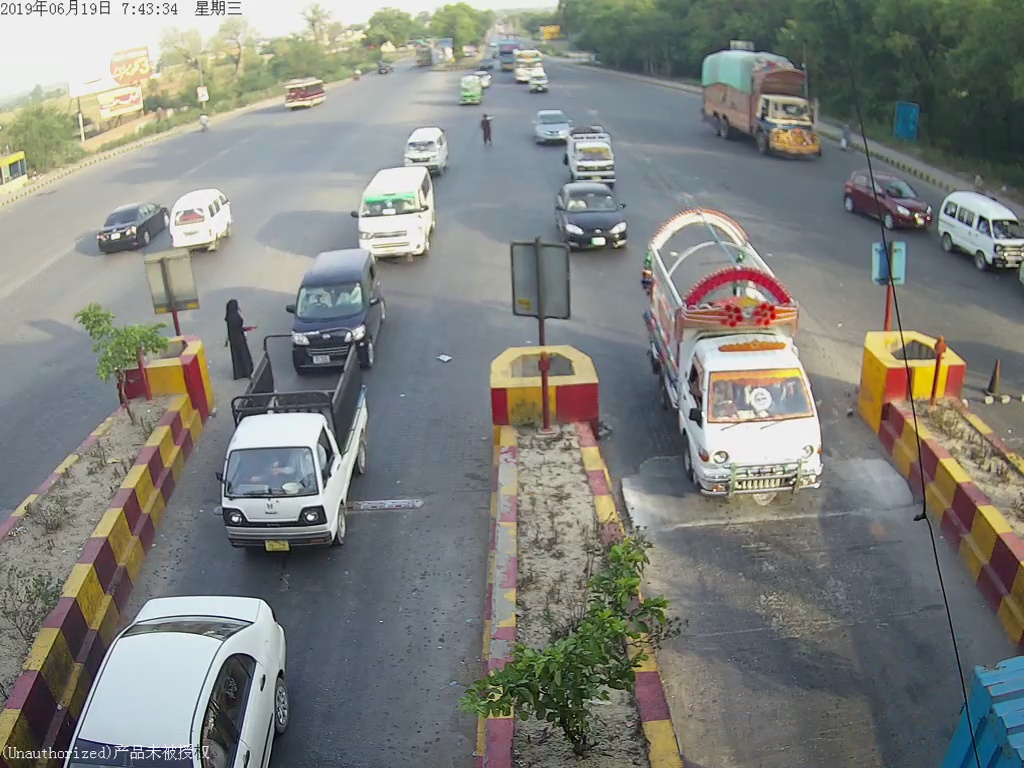Cat-1: (219, 344, 390, 553), (282, 254, 389, 342), (556, 190, 628, 254), (568, 129, 624, 180)
Cat-2: (643, 225, 833, 505), (355, 168, 446, 261)
